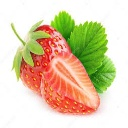strawberry: (10, 19, 78, 100), (39, 53, 101, 115)
